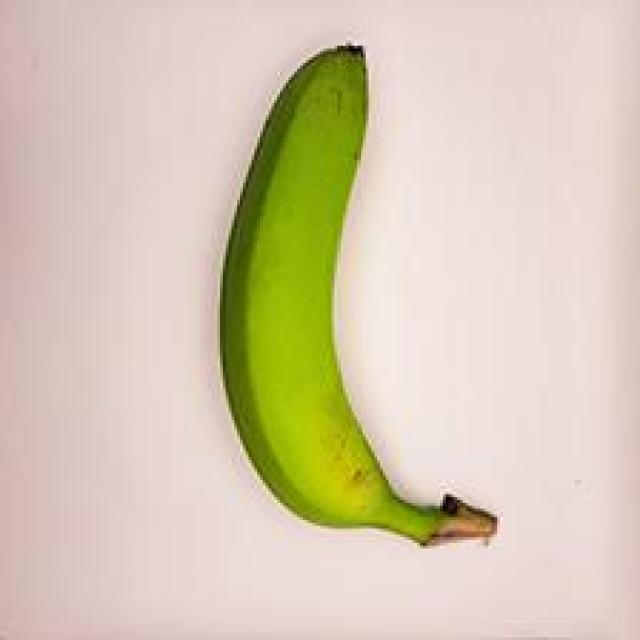raw: (179, 41, 518, 582)
